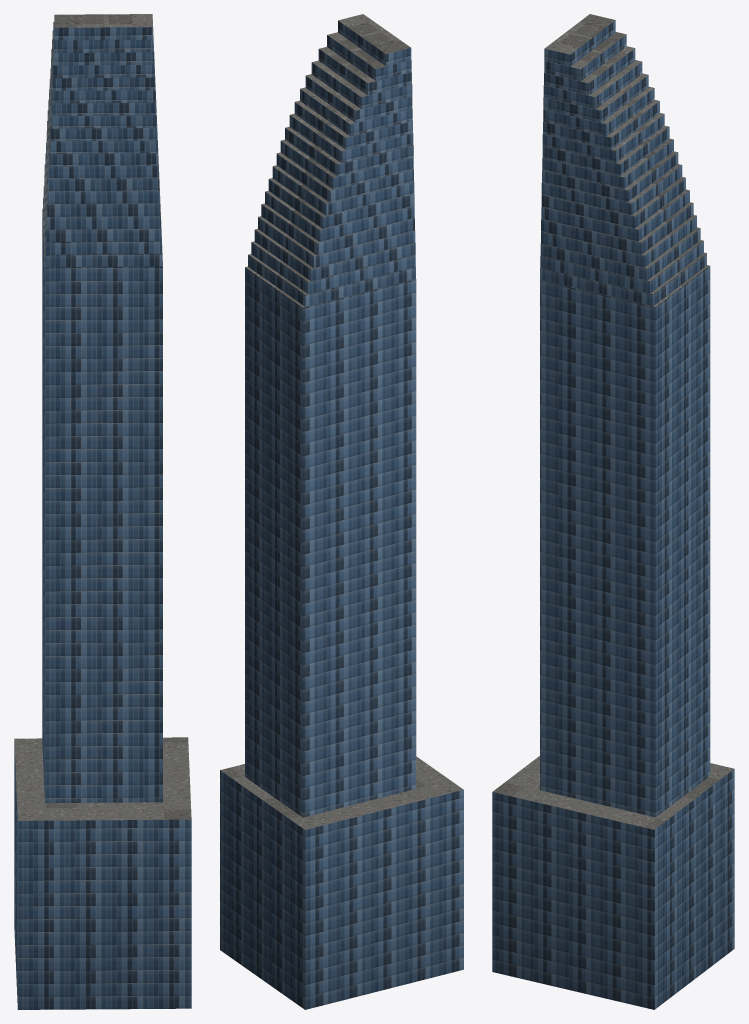
File: one57.glb
The picture shows the model from 3 angles, left to right: view 1: azimuth 30°, elevation 25°; view 2: azimuth 150°, elevation 25°; view 3: azimuth 270°, elevation 25°; orthographic projection. The views are drawn at different scales.
Parts seen in each view (by area): view 1: one57; view 2: one57; view 3: one57.
Part boxes in pixels (x1,y1,x2,y2): one57: [14, 14, 191, 1009]; one57: [220, 14, 463, 1009]; one57: [492, 14, 734, 1009].
Bounding box in the file's own units: 70.88 × 306 × 73.22.
44 materials, 44 textured.
